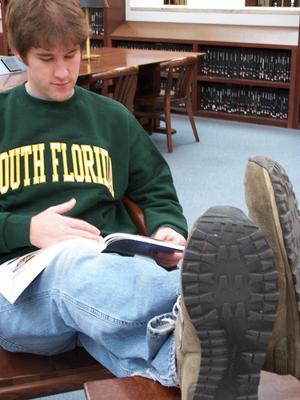person: (1, 1, 300, 398)
